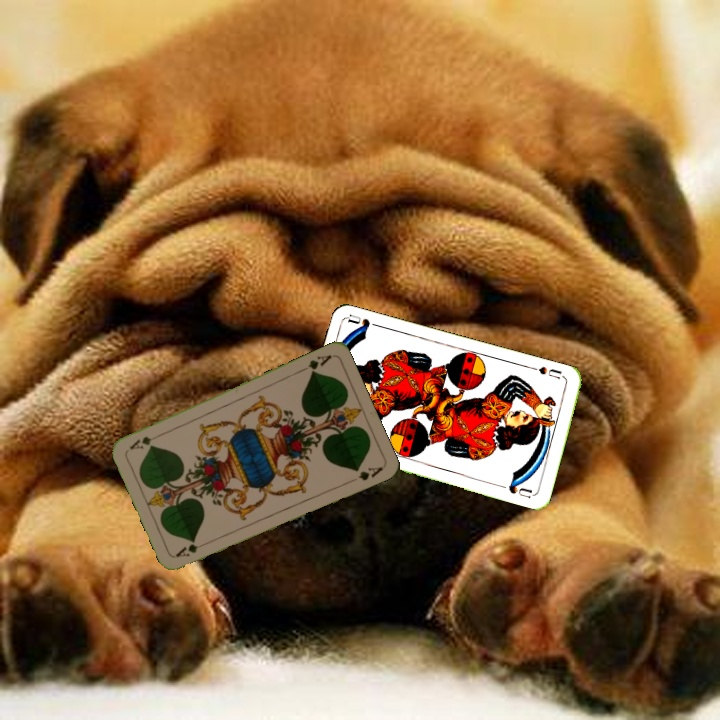GA: (296, 351, 334, 377), (172, 538, 211, 560)
SU: (527, 362, 564, 381)
